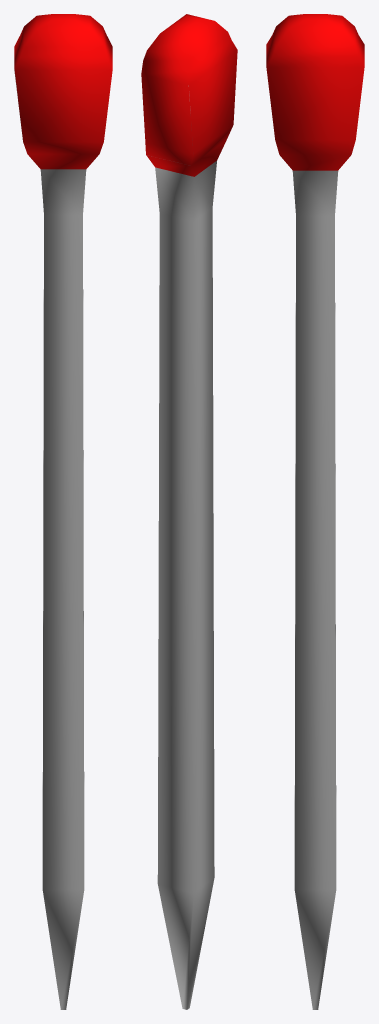
Rendered from Needle.fbx.
3 renders of one model, left to right at view 1: azimuth 90°, elevation 25°; view 2: azimuth 150°, elevation 25°; view 3: azimuth 270°, elevation 25°, orthographic.
Visible parts, largest first — view 1: Cube; view 2: Cube; view 3: Cube.
Part boxes in pixels (left/top/right/bottom): Cube: left=14, top=14, right=112, bottom=1009; Cube: left=141, top=14, right=237, bottom=1009; Cube: left=266, top=14, right=364, bottom=1009.
Bounding box in the file's own units: 21.96 × 418 × 37.58.
Materials: 1 (1 with a texture image).
